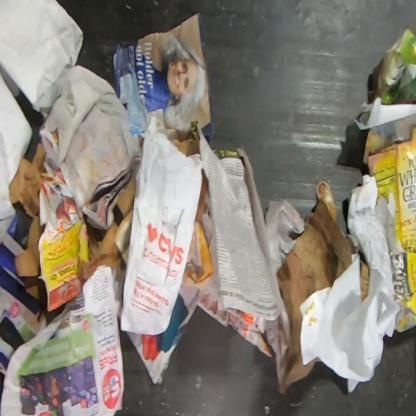cardboard: (362, 111, 416, 254), (316, 182, 338, 222)
